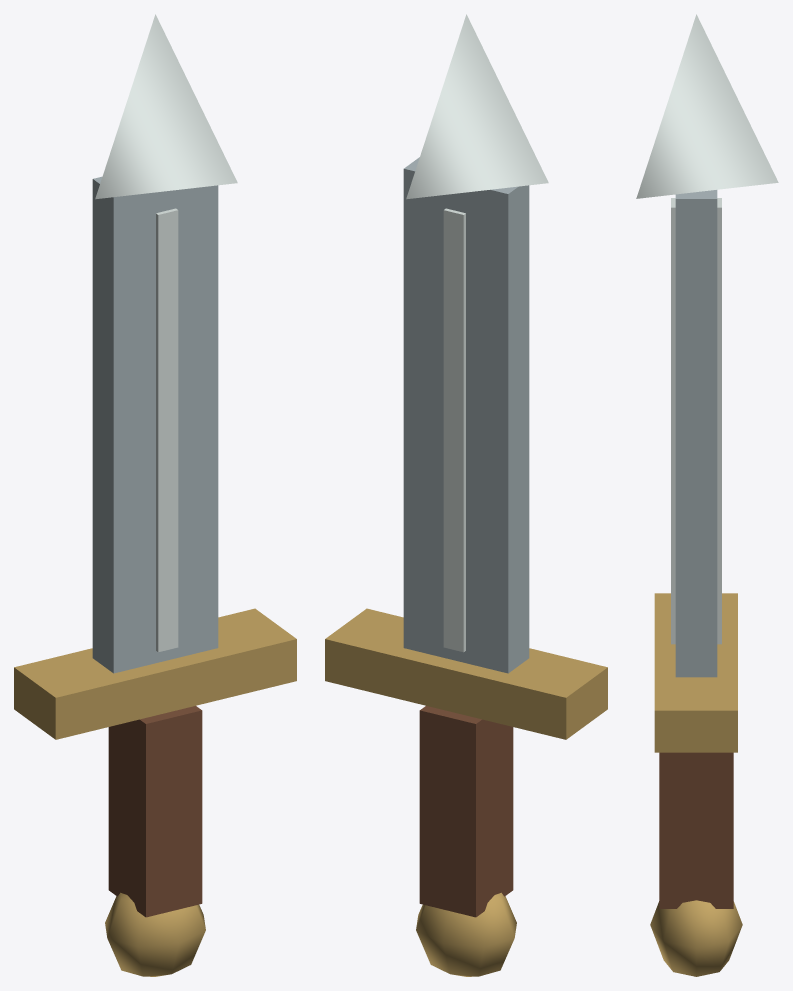
File: fixed-sword-lod1.glb
The picture shows the model from 3 angles, left to right: view 1: azimuth 30°, elevation 25°; view 2: azimuth 150°, elevation 25°; view 3: azimuth 270°, elevation 25°; orthographic projection.
Parts seen in each view (by area): view 1: piece_whole; view 2: piece_whole; view 3: piece_whole.
Boxes of the visible parts, <box> form: piece_whole: <box>14,14,296,976</box>; piece_whole: <box>325,14,607,976</box>; piece_whole: <box>636,14,778,976</box>.
Bounding box in the file's own units: 0.3 × 1.14 × 0.1539.
